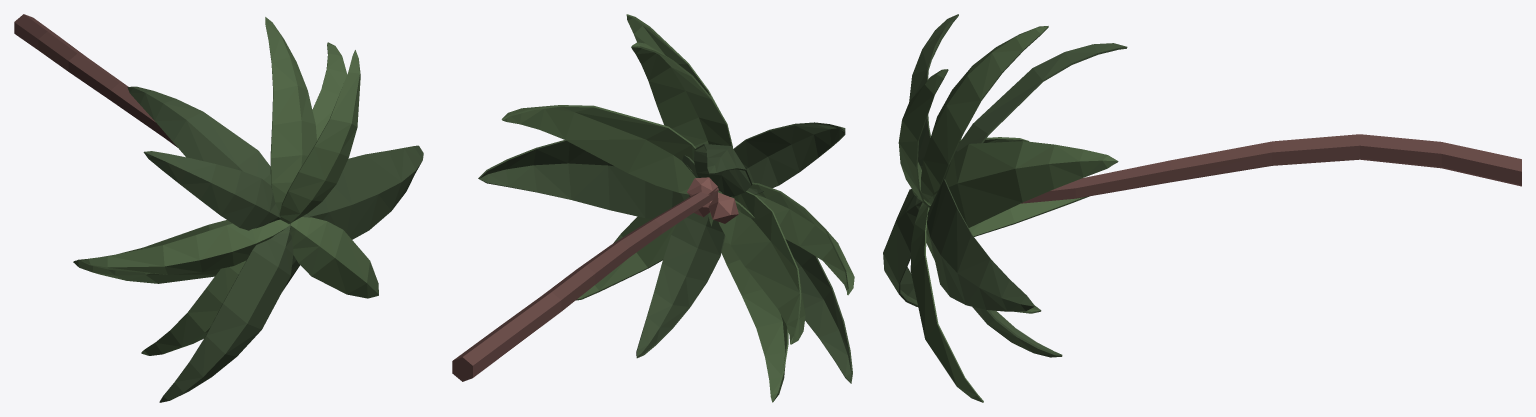
Rendered from tree-palm-3-30-ft.obj.
3 renders of one model, left to right at view 1: azimuth 30°, elevation 25°; view 2: azimuth 150°, elevation 25°; view 3: azimuth 270°, elevation 25°, orthographic. The views are drawn at different scales.
Parts seen in each view (by area): view 1: tree-palm-3-30-ft; view 2: tree-palm-3-30-ft; view 3: tree-palm-3-30-ft.
Boxes of the visible parts, x1=… form: tree-palm-3-30-ft: x1=14, y1=14, x2=423, y2=402; tree-palm-3-30-ft: x1=452, y1=14, x2=854, y2=402; tree-palm-3-30-ft: x1=883, y1=14, x2=1521, y2=402.
Size of the model in its own units: 264 by 230 by 360.
